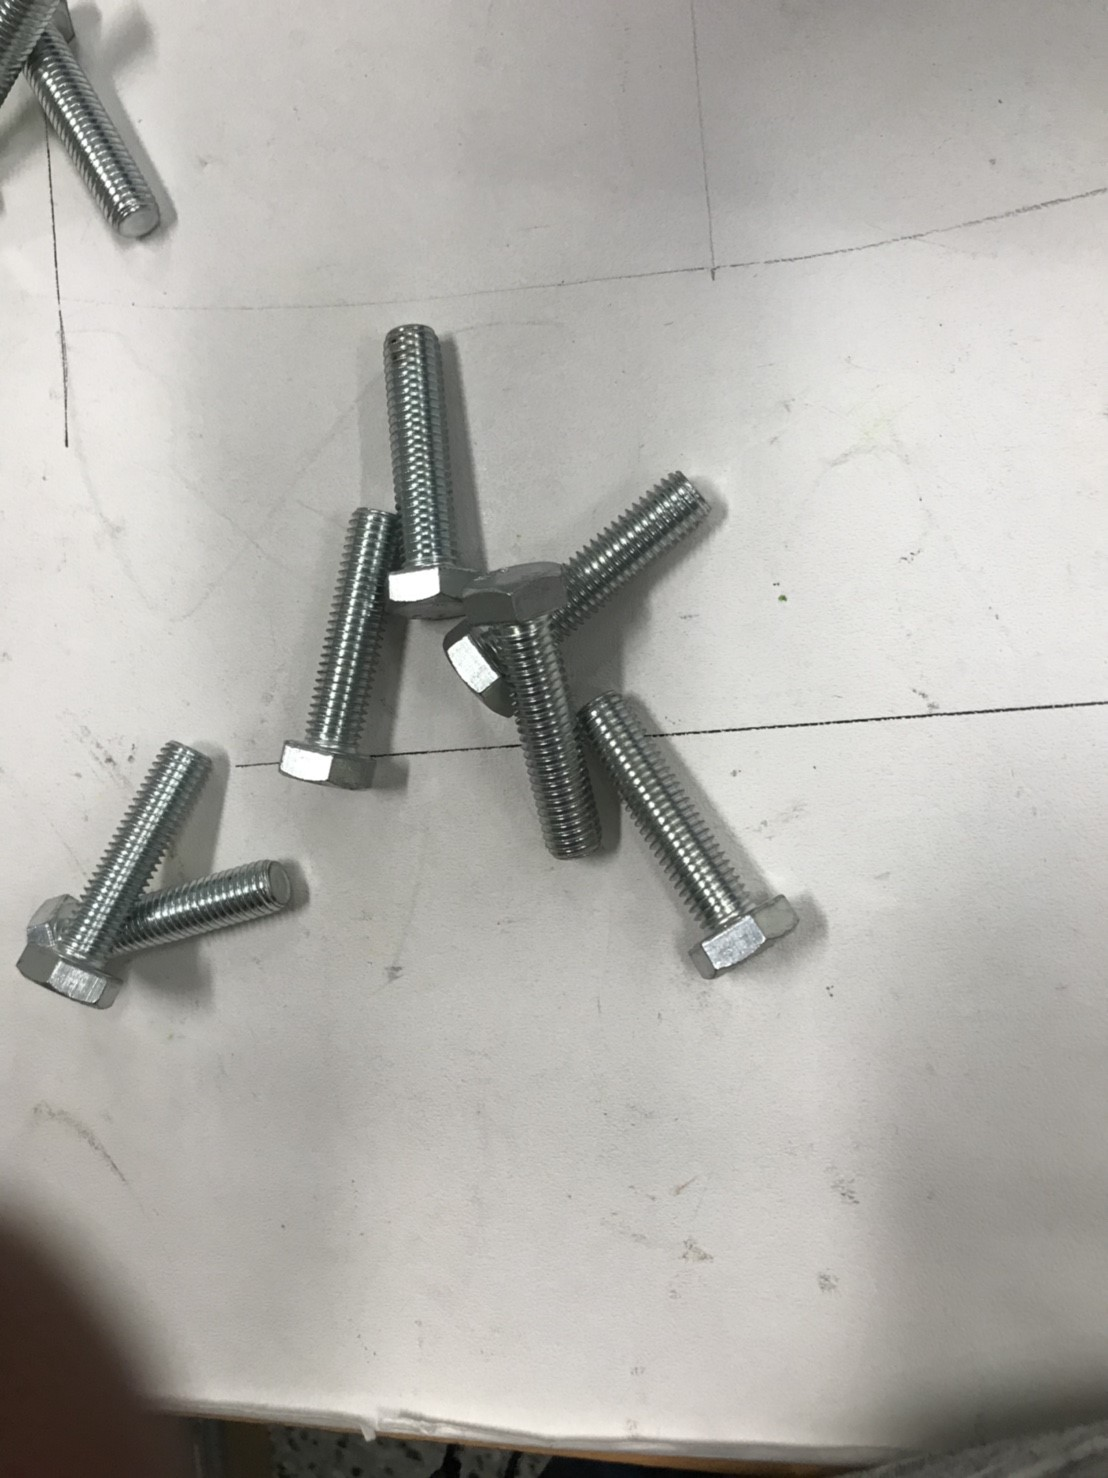screw: (439, 463, 719, 722), (578, 683, 808, 985), (22, 734, 198, 1015), (477, 549, 609, 891), (264, 504, 405, 815), (13, 1, 179, 260), (19, 853, 298, 989), (370, 308, 480, 627)
